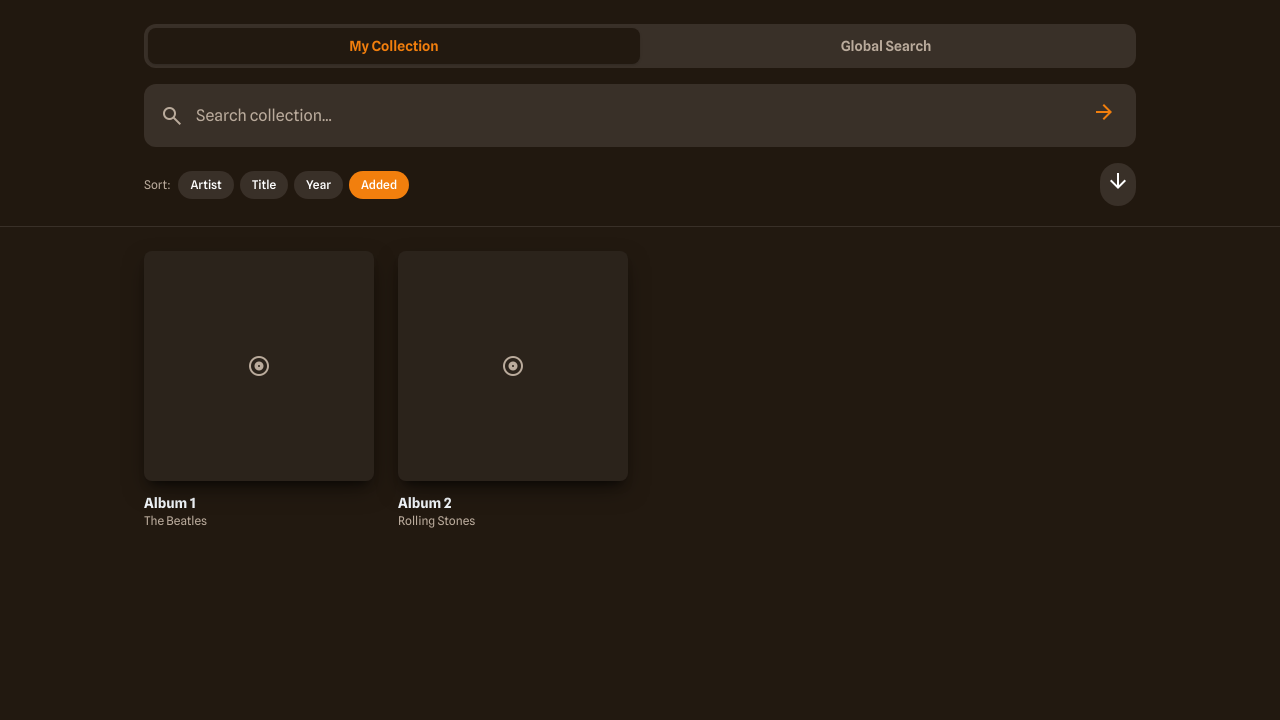
Collection Page › filters collection by artist
Expected: the text "The Beatles" is shown, [144,513,207,528]
Type "Beatles" into the field with placeholder "Search collection..." at x=638, y=116, box [196,104,1080,128]
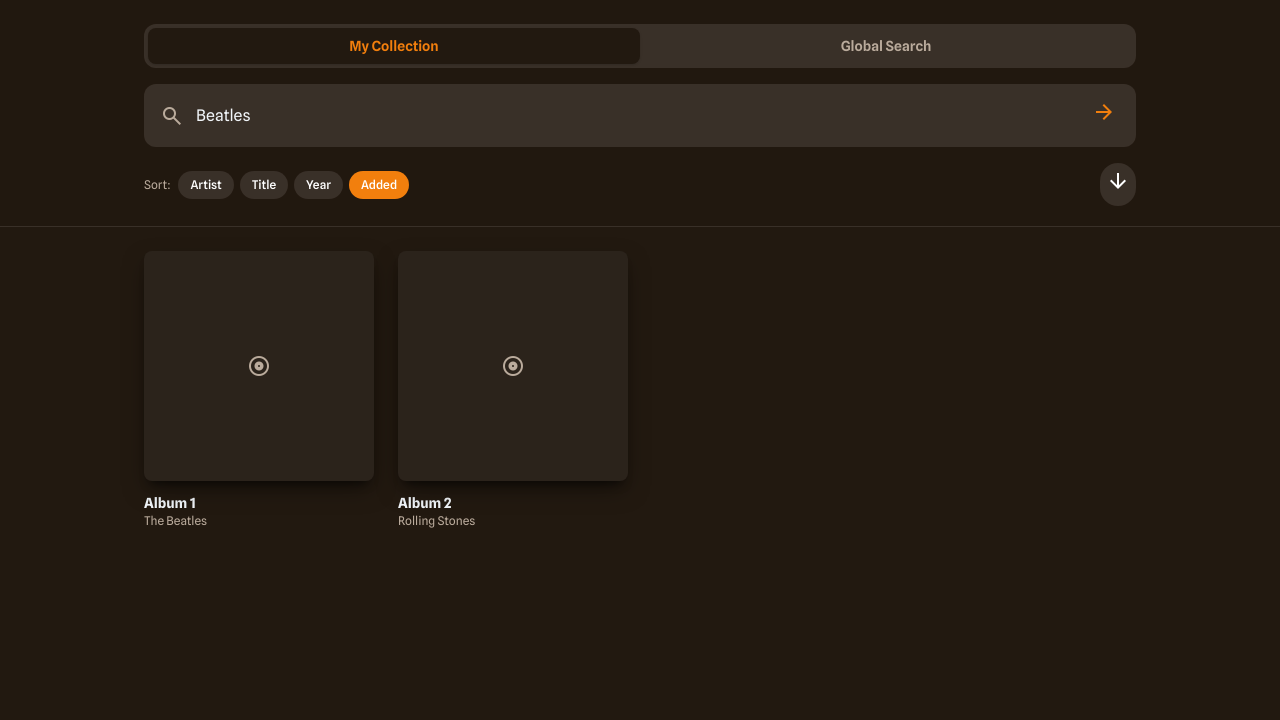
Click the button named "Search collection" at x=1104, y=116, box [1088,96,1120,135]
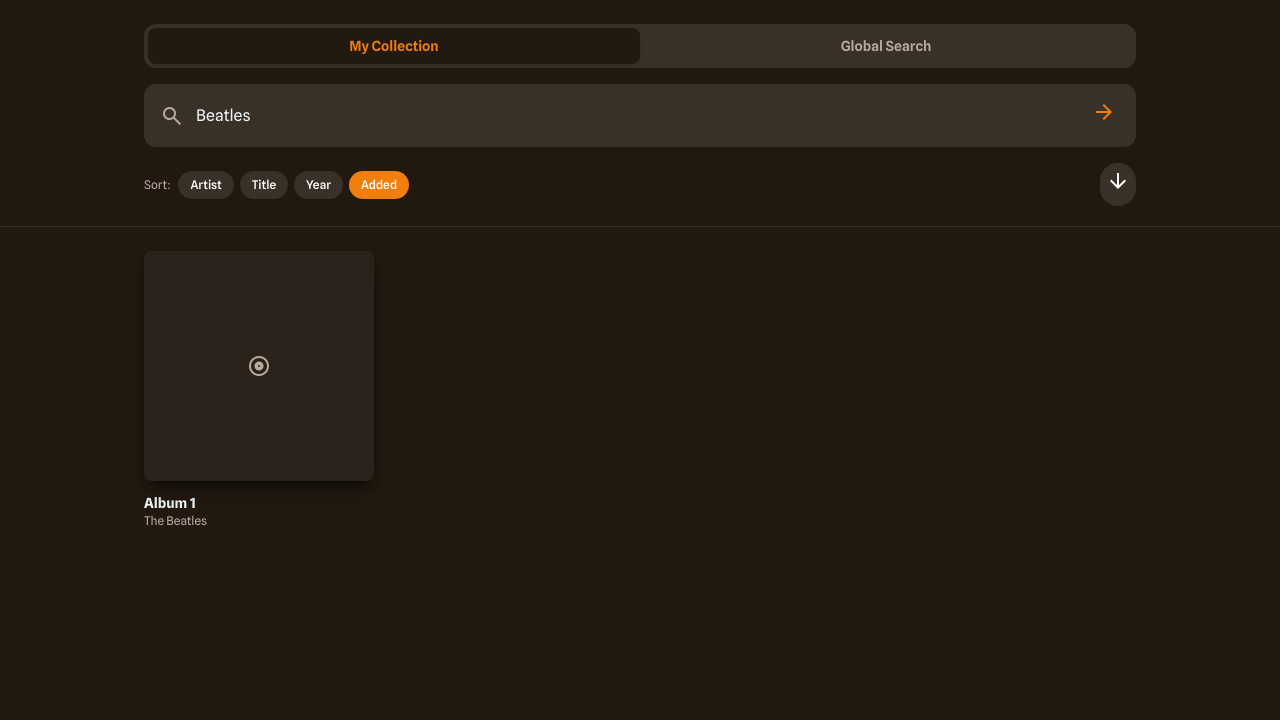
Expected: the heading "Album 1" is shown, [144,495,196,511]
Expected: the heading "Album 2" is gone
